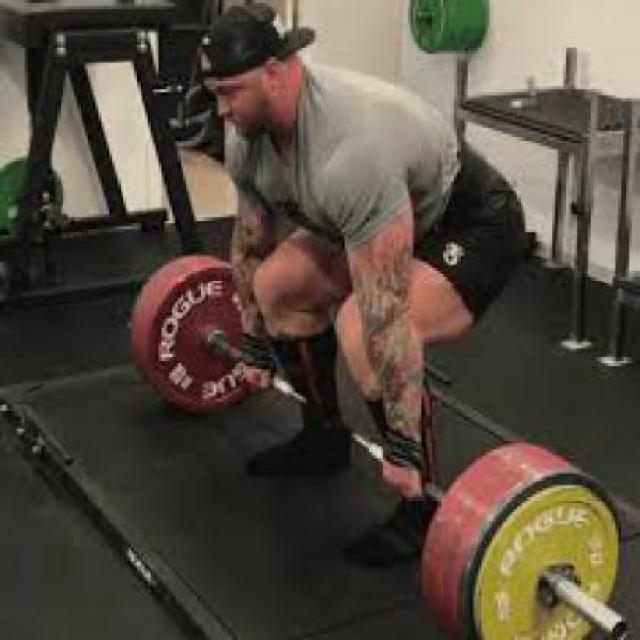Barbell: (604, 613, 634, 638)
